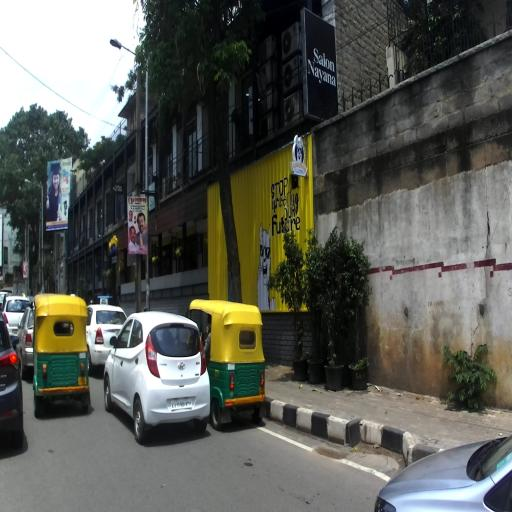street_light_0: (110, 37, 148, 68), (24, 175, 44, 195)
